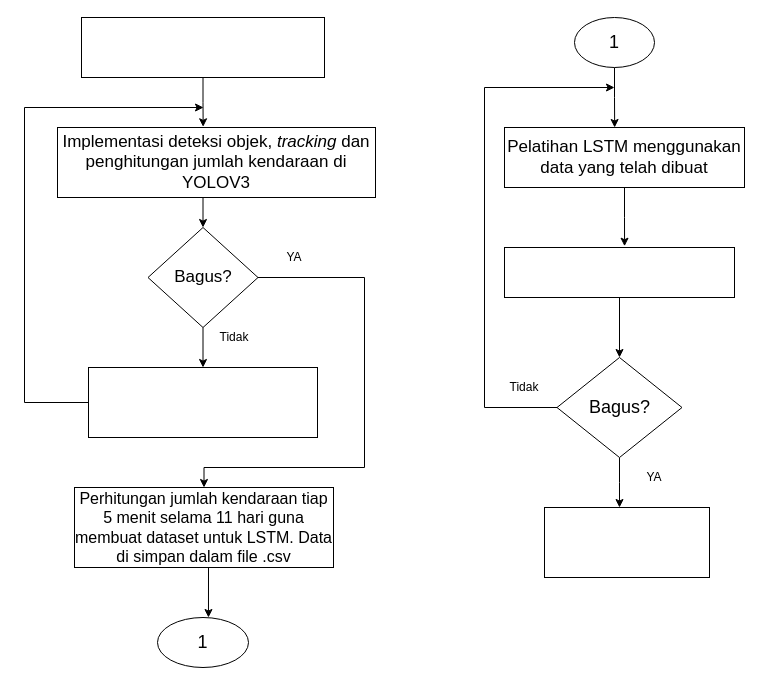
Image size: 762x685. Some labels were removed from this diagram. The shapes that lost their labels are listed below. From the top down, each one's centre as x and y in pixels, then its label:
At point 202,47: "Pemilihan objek detektor yang akan digunakan (YOLOV3)".
At point 619,272: "Pengujian model LSTM hasil pelatihan".
At point 203,402: "Pelatihan ulang YOLOV3 menggunakan dataset sendiri di framework Darknet".
At point 627,542: "Implementasi ke dashboard".
